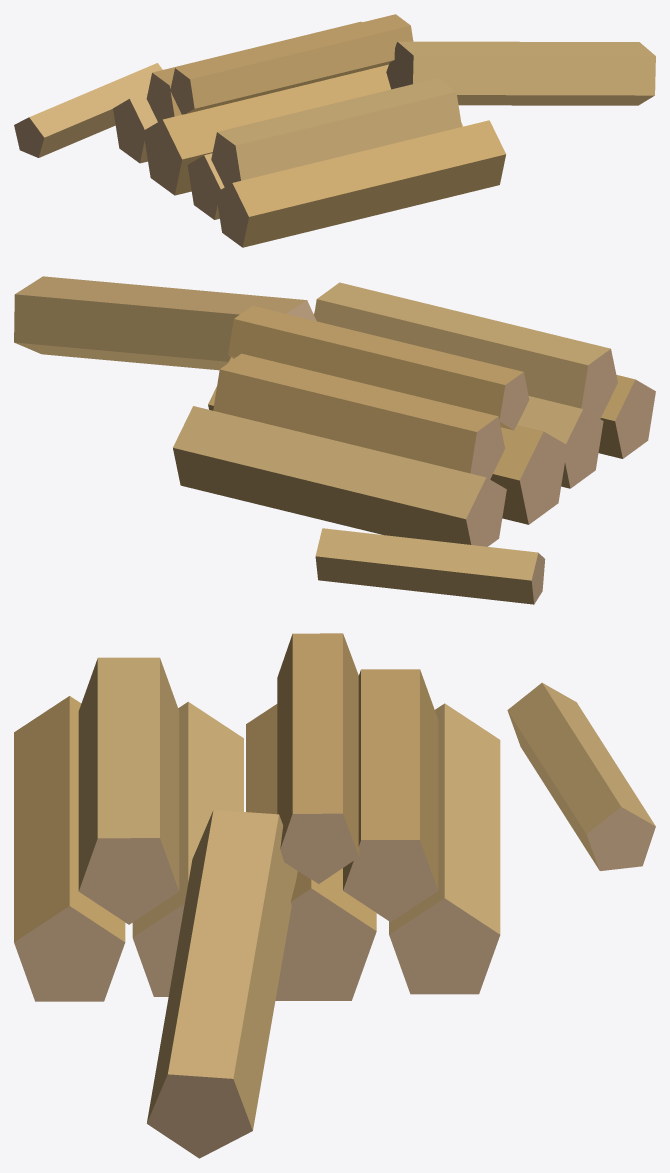
The model's file is Simple_Firewood_Pile_02.fbx.
3 views of the same model, one above another, from view 1: azimuth 30°, elevation 25°; view 2: azimuth 150°, elevation 25°; view 3: azimuth 270°, elevation 25° (orthographic). The views are drawn at different scales.
Parts seen in each view (by area): view 1: Simple_Firewood_Pile_02; view 2: Simple_Firewood_Pile_02; view 3: Simple_Firewood_Pile_02.
Boxes of the visible parts, <box> form: Simple_Firewood_Pile_02: <box>14,14,655,247</box>; Simple_Firewood_Pile_02: <box>14,276,655,604</box>; Simple_Firewood_Pile_02: <box>14,633,655,1158</box>.
Size of the model in its own units: 120 by 23.85 by 76.16.
